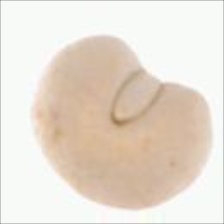L5: (29, 119, 90, 202), (108, 67, 165, 129)
L6: (30, 34, 212, 213)
